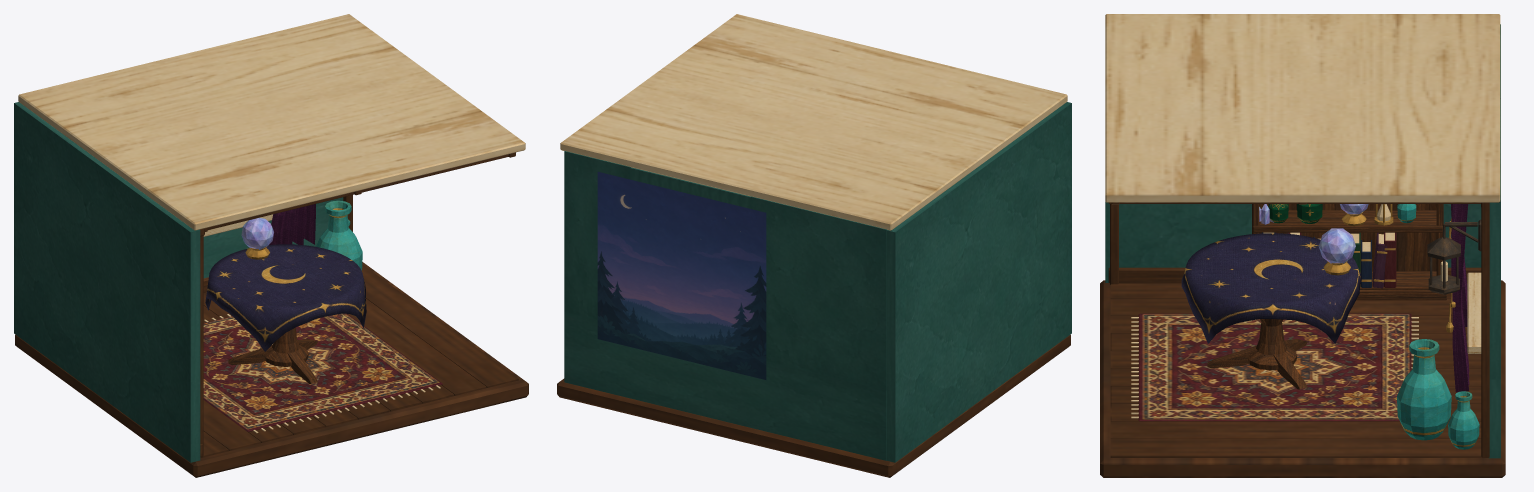
File: UranaiRoom.fbx
3 views of the same model, side by side, from view 1: azimuth 30°, elevation 25°; view 2: azimuth 150°, elevation 25°; view 3: azimuth 270°, elevation 25° (orthographic). The views are drawn at different scales.
Visible parts, largest first — view 1: Room, Carpet, Tablecloth | square drape and four hanging corners, Table, Vase | tall open floor urn, Curtains, CrystalBall_Table; view 2: Room, Window Outside | replaceable scenery plane; view 3: Room, Carpet, Tablecloth | square drape and four hanging corners, Bookshelf, Vase | tall open floor urn, Table, Curtains, Lantern, CrystalBall_Table, Vase | small companion urn, Window_Frame, Book_R1_11_Burgundy (+4 smaller).
Boxes of the visible parts, x1=… form: Room: x1=14, y1=14, x2=528, y2=477; Carpet: x1=203, y1=313, x2=442, y2=433; Tablecloth | square drape and four hanging corners: x1=205, y1=244, x2=366, y2=351; Table: x1=228, y1=327, x2=317, y2=383; Vase | tall open floor urn: x1=316, y1=200, x2=362, y2=270; Curtains: x1=269, y1=204, x2=315, y2=244; CrystalBall_Table: x1=241, y1=217, x2=273, y2=259; Room: x1=557, y1=14, x2=1071, y2=477; Window Outside | replaceable scenery plane: x1=597, y1=171, x2=766, y2=379; Room: x1=1100, y1=14, x2=1505, y2=477; Carpet: x1=1131, y1=313, x2=1418, y2=421; Tablecloth | square drape and four hanging corners: x1=1181, y1=233, x2=1361, y2=343; Bookshelf: x1=1252, y1=204, x2=1446, y2=300; Vase | tall open floor urn: x1=1397, y1=339, x2=1451, y2=440; Table: x1=1207, y1=319, x2=1307, y2=389; Curtains: x1=1446, y1=204, x2=1469, y2=392; Lantern: x1=1427, y1=219, x2=1481, y2=294; CrystalBall_Table: x1=1318, y1=228, x2=1355, y2=275; Vase | small companion urn: x1=1448, y1=391, x2=1479, y2=449; Window_Frame: x1=1467, y1=272, x2=1481, y2=353; Book_R1_11_Burgundy: x1=1384, y1=232, x2=1396, y2=287.
Size of the model in its own units: 628 by 452 by 606.
